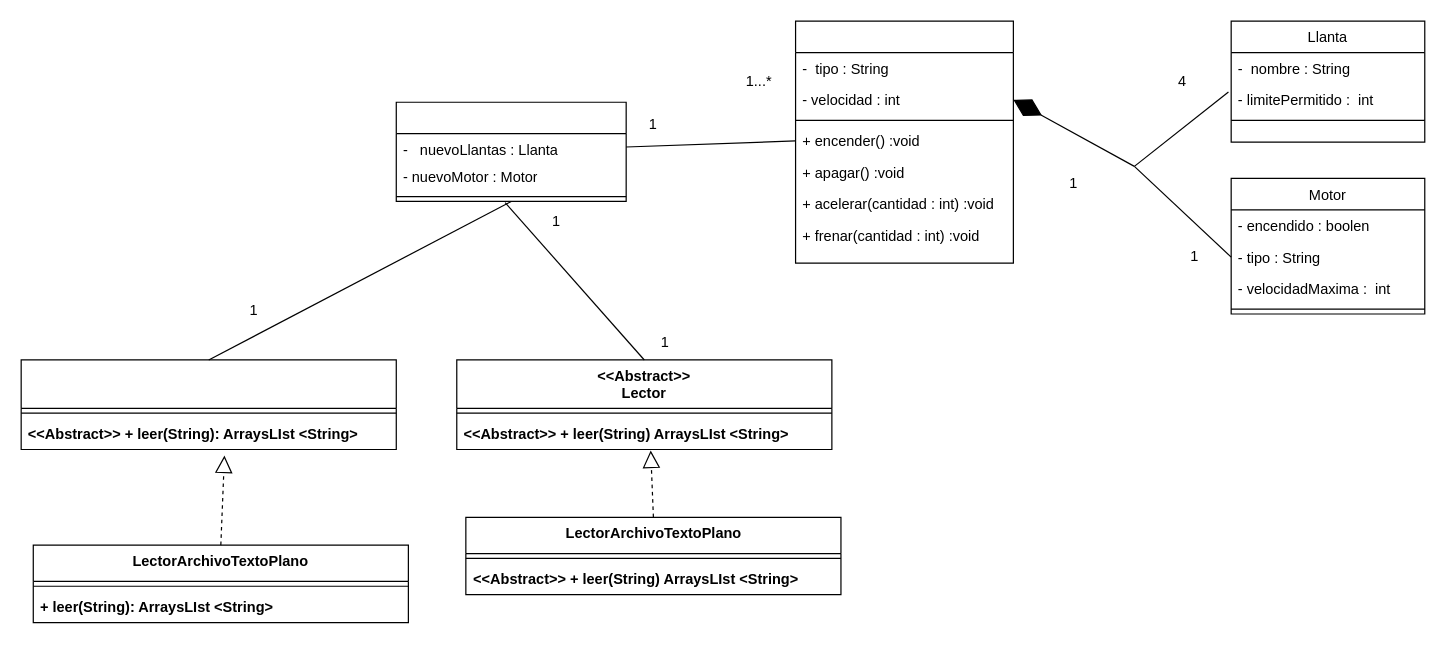
Image size: 1446x647. Some labels were removed from this diagram. Each missing label, with the box of its shape:
<<Abstract>> Escritor: (20, 359, 396, 450)
Carrro: (794, 20, 1013, 263)
Taller: (395, 101, 626, 201)
